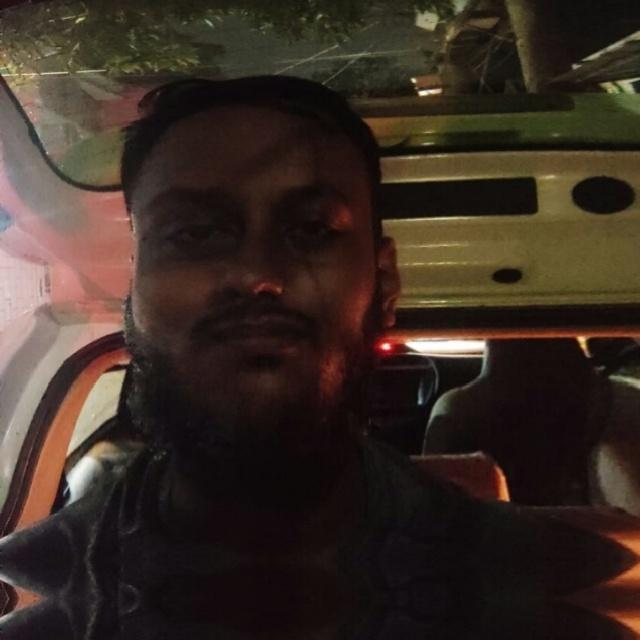Natural: (112, 39, 398, 507)
